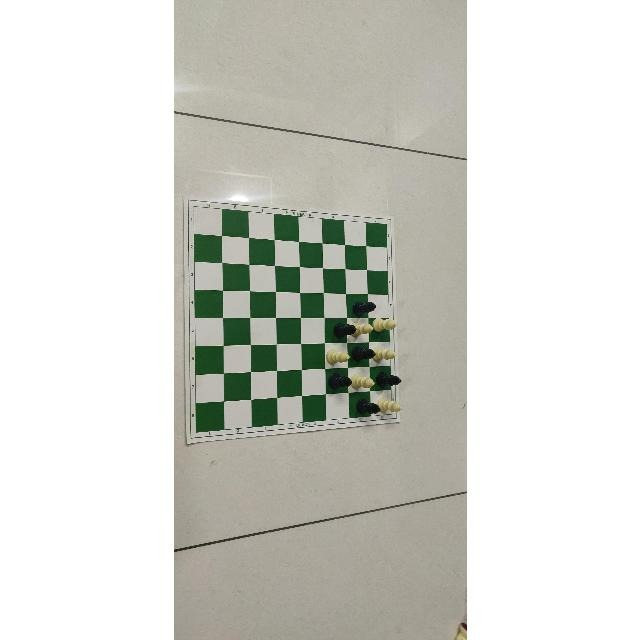black-bishop: (330, 318, 356, 341), (353, 394, 380, 416), (350, 295, 376, 317), (350, 344, 375, 366), (327, 370, 351, 392), (375, 369, 401, 389)
white-bishop: (369, 317, 397, 340), (372, 343, 396, 367), (347, 318, 373, 340), (326, 343, 350, 366), (350, 368, 374, 391), (376, 394, 402, 415)
